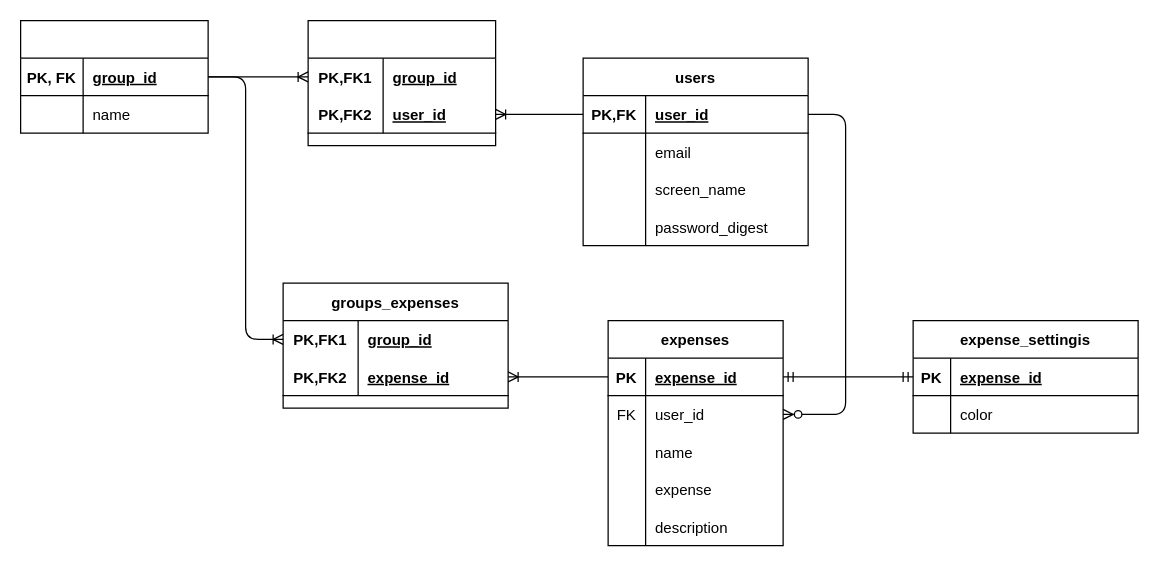
Image size: 1159x566. Some labels were removed from this diagram. The shapes that lost their labels are listed below. From the top down, each one's box as (x1, y1, x2, y2) in pixels, then its label:
(19, 19, 208, 133): groups
(307, 19, 496, 146): groups_users
